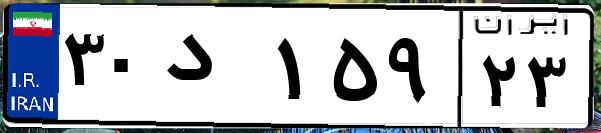0: (110, 28, 158, 98)
1: (270, 28, 330, 110)
2: (475, 38, 525, 113)
3: (57, 26, 110, 100), (525, 38, 570, 115)
5: (330, 28, 385, 110)
9: (385, 28, 445, 110)
د: (158, 20, 270, 120)
